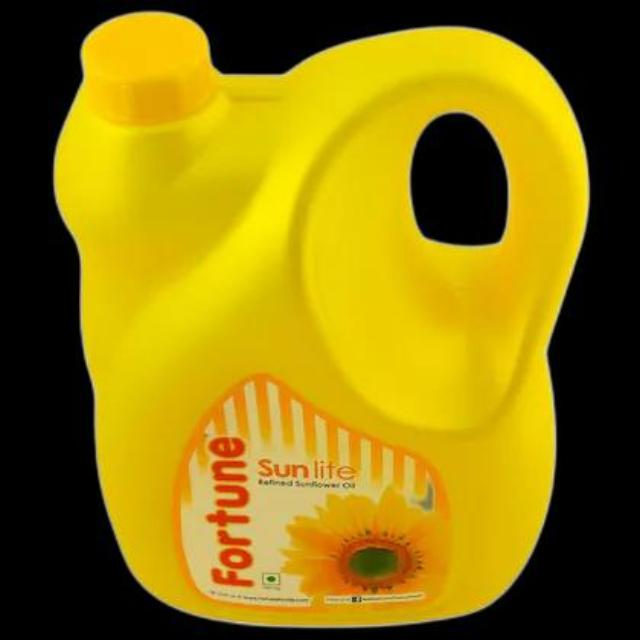Fortune Sunlite Refined Sunflower Oil 5 L: (47, 15, 595, 631)
